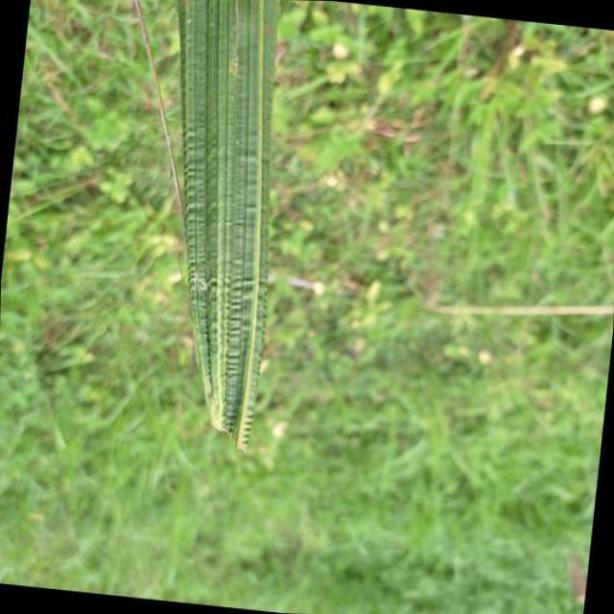Boron: (180, 3, 280, 445)
